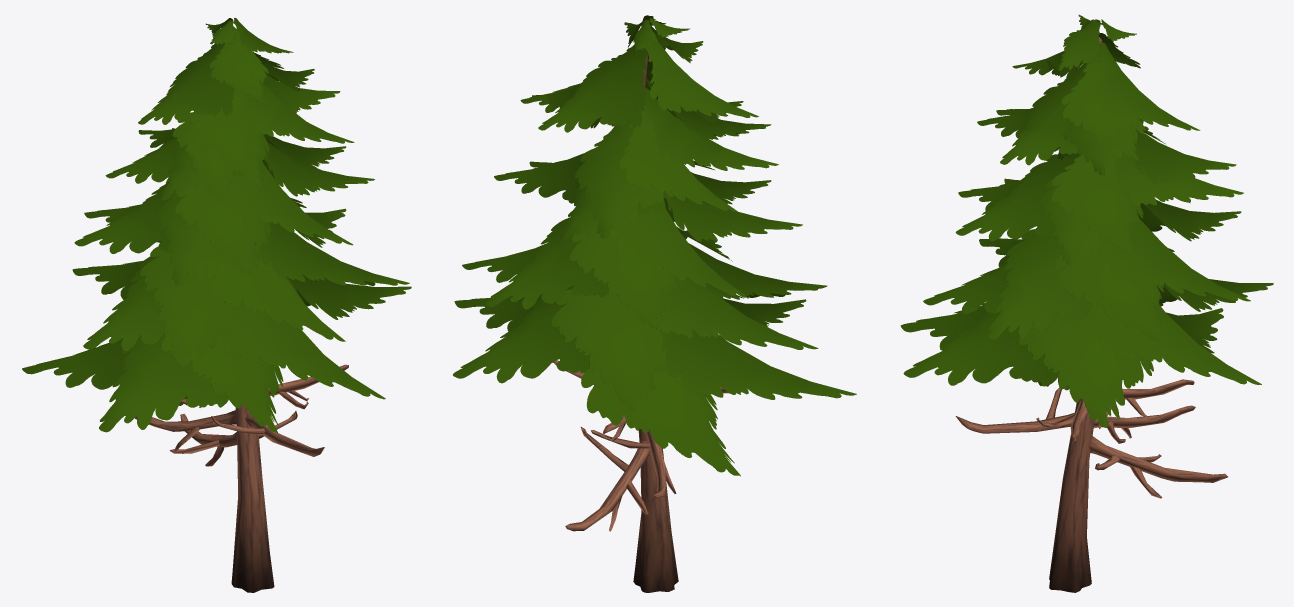
The model's file is Pine_1_s.gltf.
3 views of the same model, side by side, from view 1: azimuth 30°, elevation 25°; view 2: azimuth 150°, elevation 25°; view 3: azimuth 270°, elevation 25° (orthographic). The views are drawn at different scales.
Visible parts, largest first — view 1: Pine_1; view 2: Pine_1; view 3: Pine_1.
Part boxes in pixels (bbox=[...]): Pine_1: bbox=[22, 18, 411, 592]; Pine_1: bbox=[453, 15, 856, 592]; Pine_1: bbox=[900, 14, 1273, 592].
Size of the model in its own units: 4.94 by 7.32 by 4.54.
Materials: 2 (2 with a texture image).
